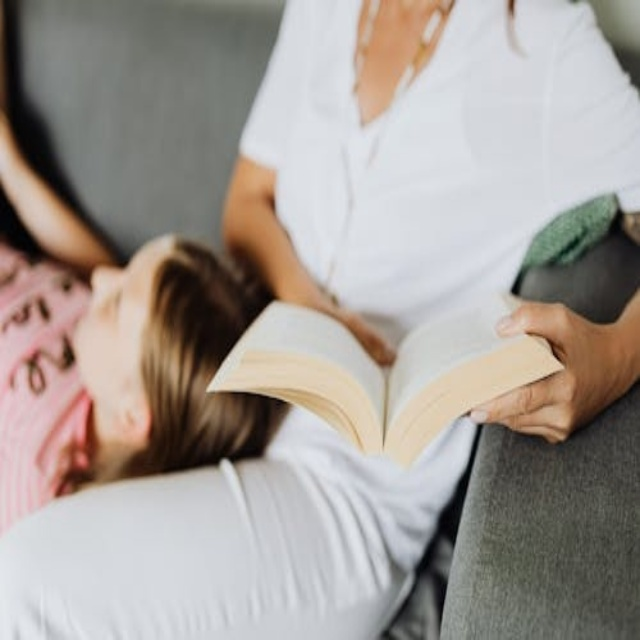Sin_guantes: (472, 294, 632, 445)
